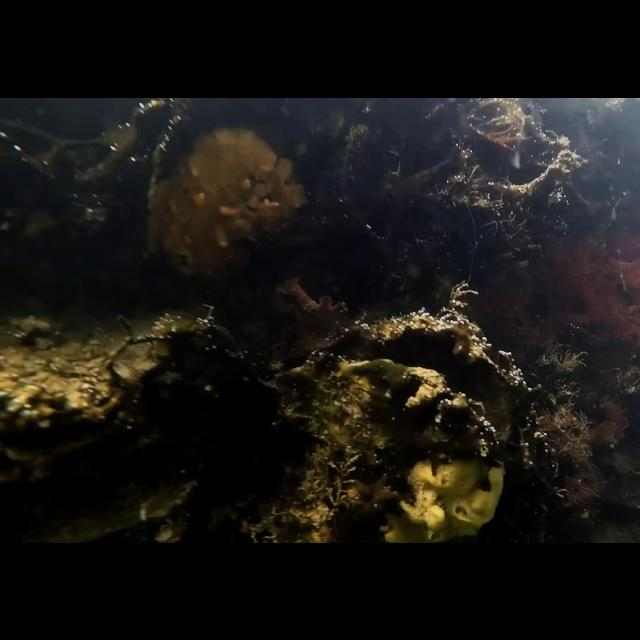Oyster-Closed: (146, 112, 306, 290)
Oyster-Open: (276, 314, 514, 542), (0, 310, 210, 482), (34, 476, 198, 542)
